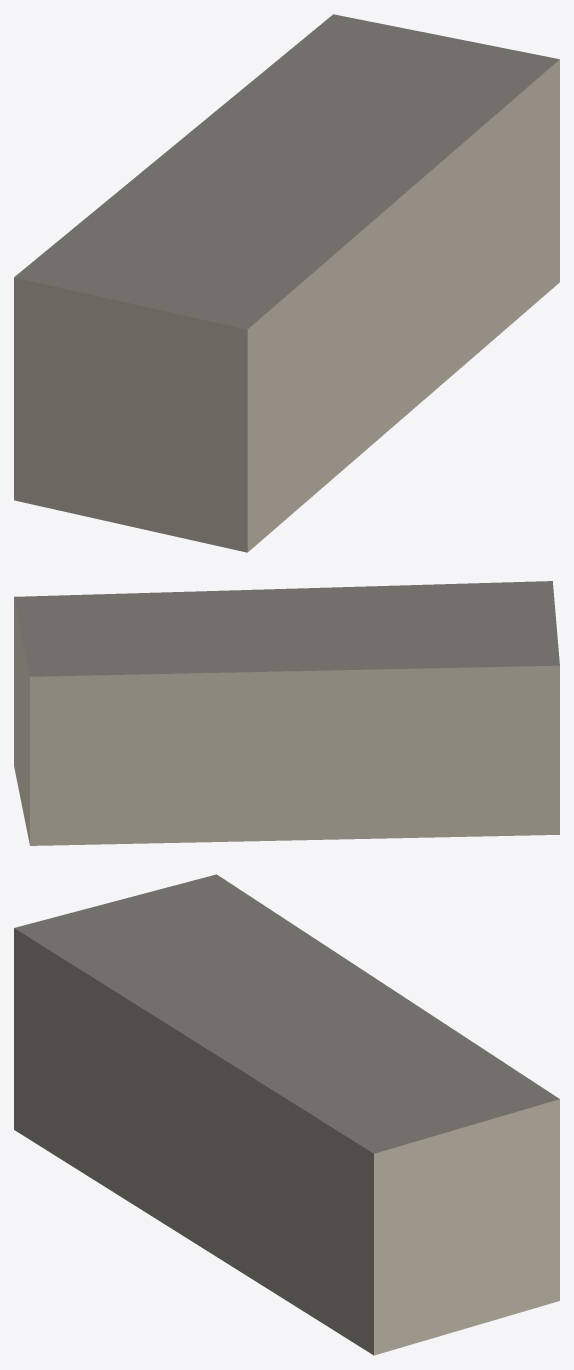
3 renders of one model, top to bottom at view 1: azimuth 30°, elevation 25°; view 2: azimuth 150°, elevation 25°; view 3: azimuth 270°, elevation 25°, orthographic. The views are drawn at different scales.
Parts seen in each view (by area): view 1: HP-w442026892; view 2: HP-w442026892; view 3: HP-w442026892.
Boxes of the visible parts, x1,y1,x2,y2 form: HP-w442026892: [14, 14, 559, 552]; HP-w442026892: [14, 581, 559, 845]; HP-w442026892: [14, 874, 559, 1355].
Size of the model in its own units: 53.45 by 18 by 44.14.
